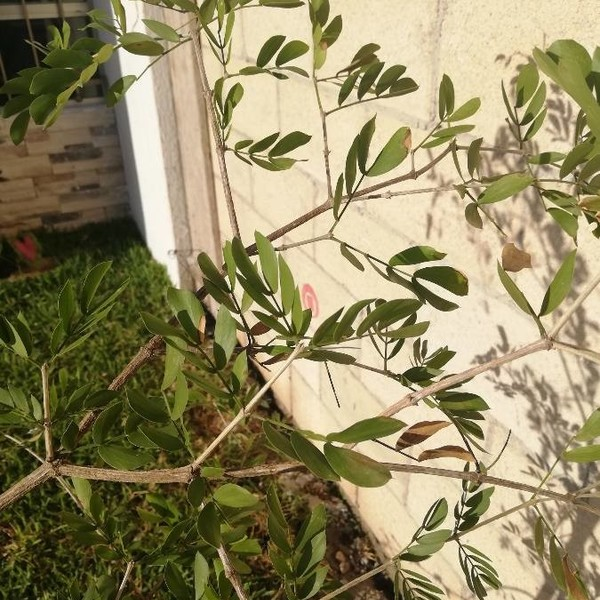obstacle: (112, 14, 564, 564)
